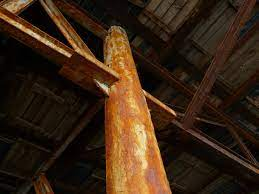rust: (96, 26, 170, 194), (58, 54, 117, 88), (195, 143, 259, 173), (171, 110, 199, 140), (34, 38, 64, 59), (13, 25, 38, 42), (190, 95, 207, 117)
